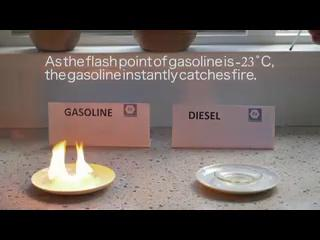Fire: (51, 139, 91, 180)
